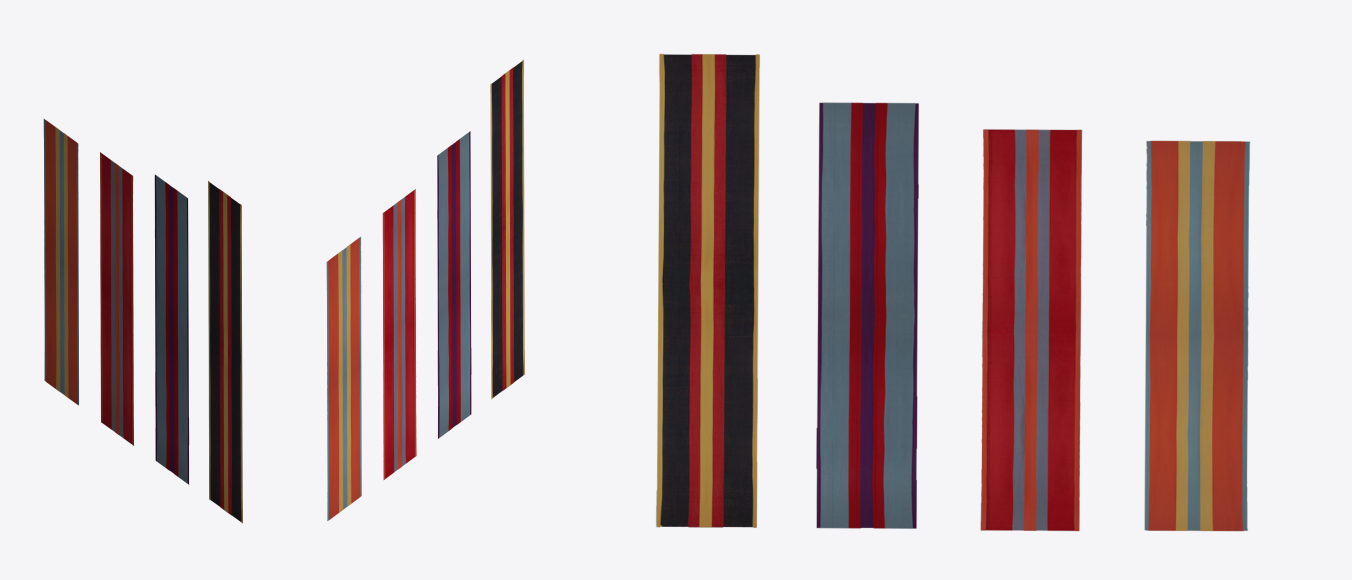
Rendered from fav.glb.
The picture shows the model from 3 angles, left to right: view 1: azimuth 30°, elevation 25°; view 2: azimuth 150°, elevation 25°; view 3: azimuth 270°, elevation 25°; orthographic projection. The views are drawn at different scales.
Visible parts, largest first — view 1: FAVIELLE; view 2: FAVIELLE; view 3: FAVIELLE.
Boxes of the visible parts, <box> form: FAVIELLE: <box>43,119,242,523</box>; FAVIELLE: <box>326,59,524,520</box>; FAVIELLE: <box>656,54,1250,531</box>.
Size of the model in its own units: 0.00477 by 4.56 by 5.68.
Materials: 1 (1 with a texture image).
